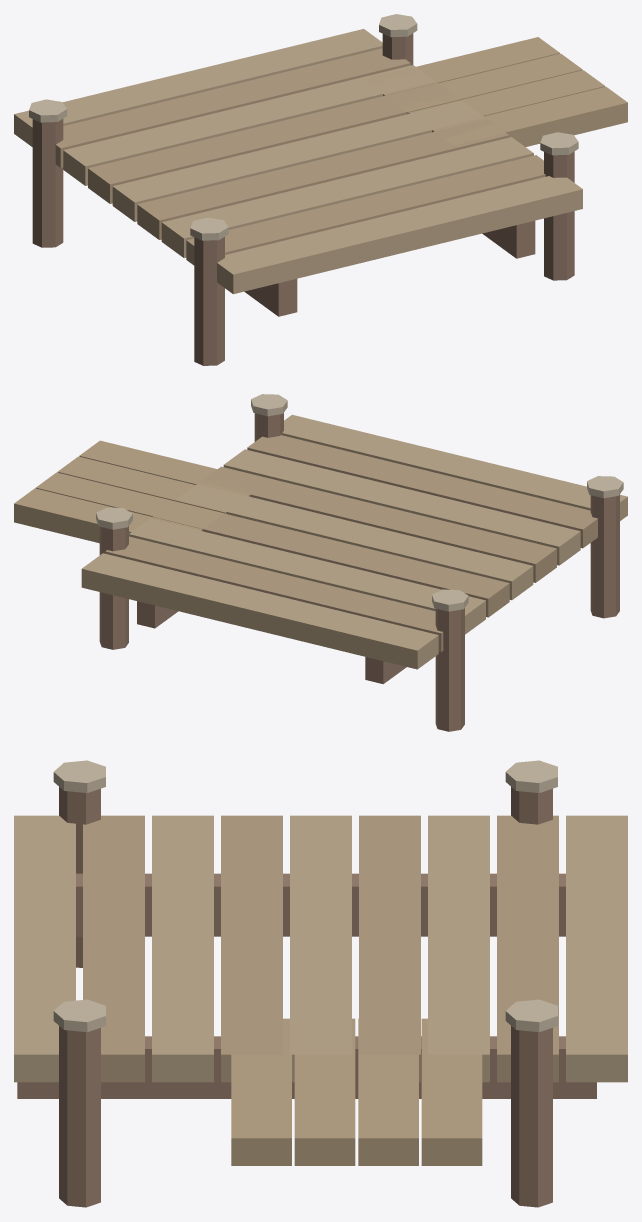
3 renders of one model, top to bottom at view 1: azimuth 30°, elevation 25°; view 2: azimuth 150°, elevation 25°; view 3: azimuth 270°, elevation 25°, orthographic. The views are drawn at different scales.
Visible parts, largest first — view 1: H04; view 2: H04; view 3: H04.
Part boxes in pixels (left/top/right/bottom): H04: left=14, top=14, right=627, bottom=365; H04: left=14, top=394, right=627, bottom=731; H04: left=14, top=760, right=627, bottom=1207.
Size of the model in its own units: 2.86 by 0.75 by 2.22.
